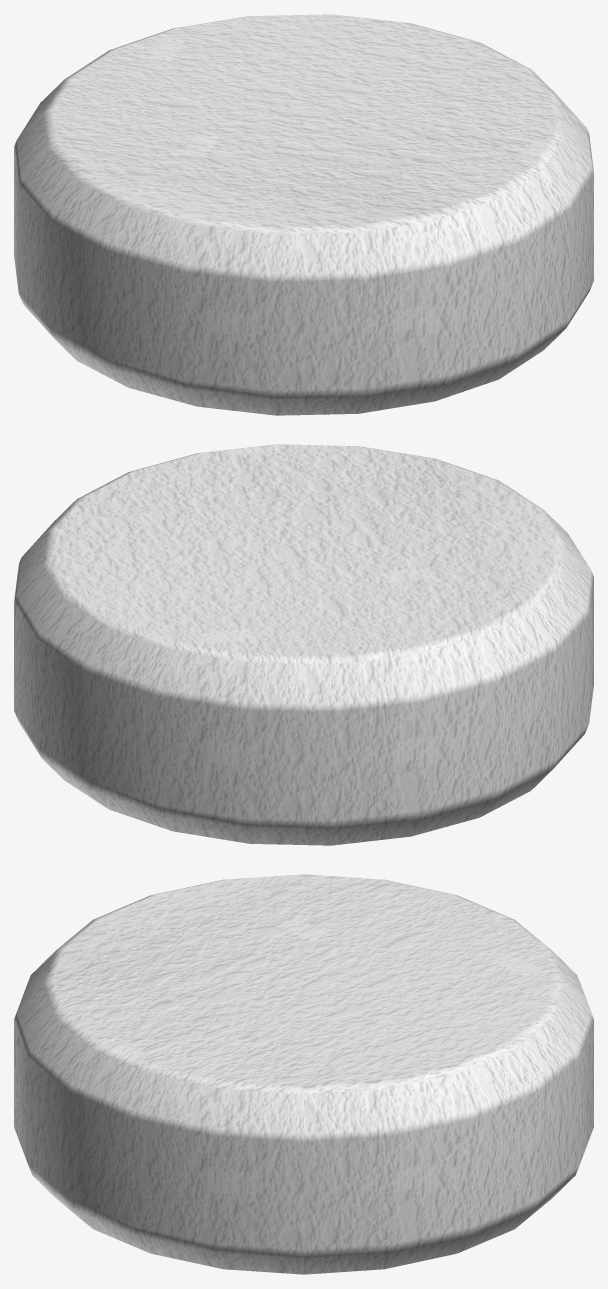
Rendered from Chlorine.fbx.
3 renders of one model, top to bottom at view 1: azimuth 30°, elevation 25°; view 2: azimuth 150°, elevation 25°; view 3: azimuth 270°, elevation 25°, orthographic.
Parts seen in each view (by area): view 1: Chlorine; view 2: Chlorine; view 3: Chlorine.
Part boxes in pixels (left/top/right/bottom): Chlorine: left=14, top=14, right=593, bottom=415; Chlorine: left=14, top=444, right=593, bottom=845; Chlorine: left=14, top=874, right=593, bottom=1274.
Bounding box in the file's own units: 53.2 × 19.06 × 53.2.
1 material, 1 textured.
